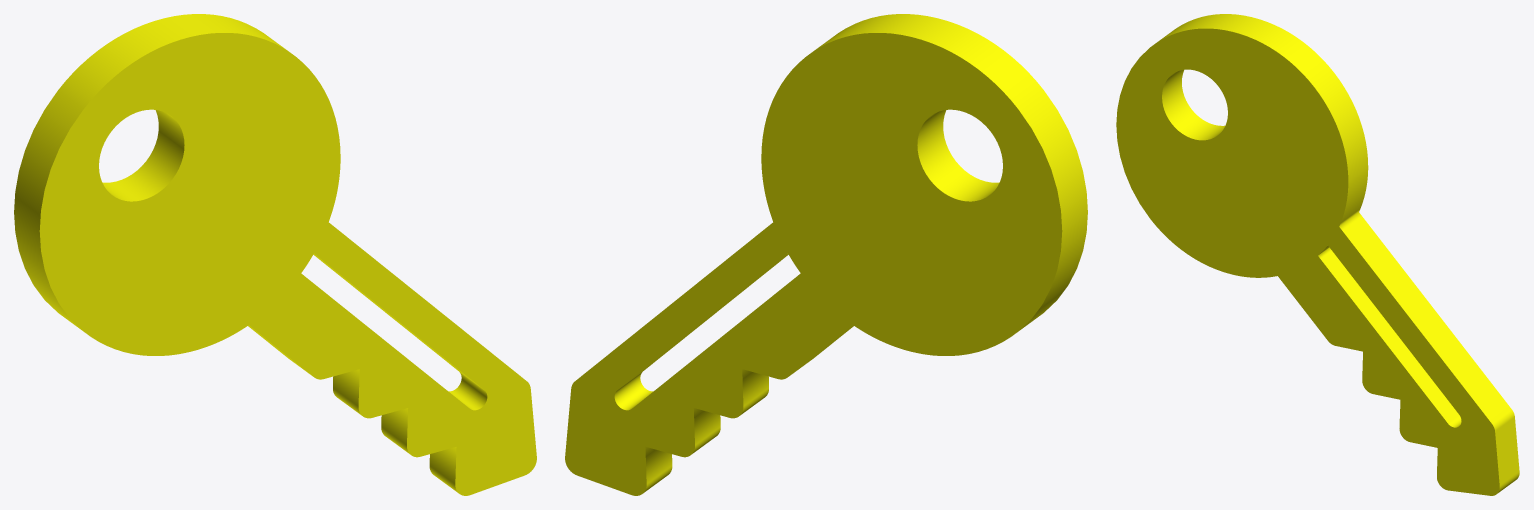
The model's file is Key.fbx.
3 renders of one model, left to right at view 1: azimuth 30°, elevation 25°; view 2: azimuth 150°, elevation 25°; view 3: azimuth 330°, elevation 25°, orthographic. The views are drawn at different scales.
Parts seen in each view (by area): view 1: Curve; view 2: Curve; view 3: Curve.
Boxes of the visible parts, x1,y1,x2,y2 form: Curve: (14, 14, 536, 495); Curve: (565, 14, 1087, 495); Curve: (1116, 14, 1519, 495).
Bounding box in the file's own units: 22.31 × 22.57 × 2.
